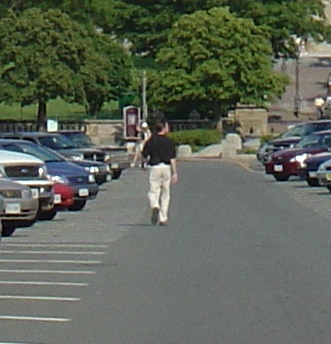person: (139, 120, 180, 223)
